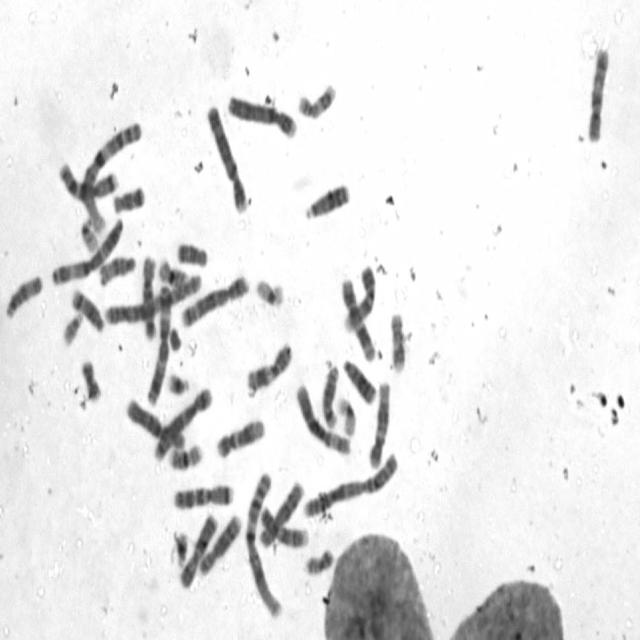A1: (78, 117, 143, 235), (242, 468, 284, 620)
A2: (300, 448, 401, 520), (101, 270, 202, 326)
A3: (48, 213, 125, 286), (144, 284, 172, 406)
B4: (205, 100, 248, 216), (225, 90, 298, 140)
B5: (151, 384, 214, 463), (179, 270, 250, 328)
C10: (584, 40, 612, 144), (138, 252, 158, 342)
C11: (339, 272, 377, 364), (243, 337, 294, 398)
C12: (213, 414, 267, 460), (366, 377, 392, 470)
C6: (294, 380, 352, 457), (123, 395, 186, 450)
C7: (57, 157, 119, 202), (170, 480, 234, 511)
C8: (256, 476, 306, 550), (196, 510, 242, 577)
C9: (341, 260, 376, 334), (258, 505, 309, 549)
D13: (301, 179, 351, 222), (339, 354, 377, 407)
D14: (69, 284, 104, 332), (319, 358, 341, 431)
D15: (3, 272, 44, 321), (96, 251, 137, 288)
E16: (155, 258, 192, 294), (166, 439, 204, 471)
E17: (295, 79, 338, 122), (387, 309, 407, 376)
E18: (110, 182, 146, 215), (174, 238, 209, 269)
F19: (254, 274, 286, 310), (334, 394, 357, 437)
F20: (302, 545, 335, 577), (79, 357, 102, 402)
G21: (170, 526, 189, 569), (165, 367, 190, 397)
G22: (78, 214, 100, 253), (61, 309, 83, 346)
X: (176, 510, 218, 590)
Y: (166, 323, 182, 352)
